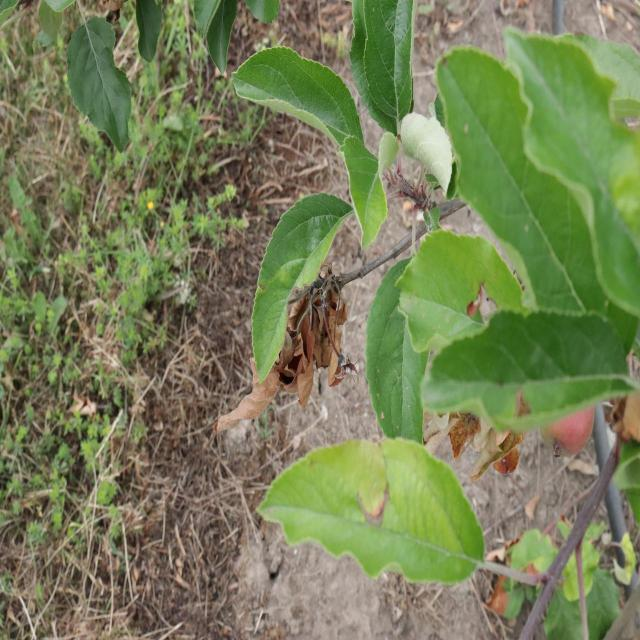-FireBlight-: (290, 285, 348, 394), (448, 395, 508, 475), (224, 362, 308, 399)
